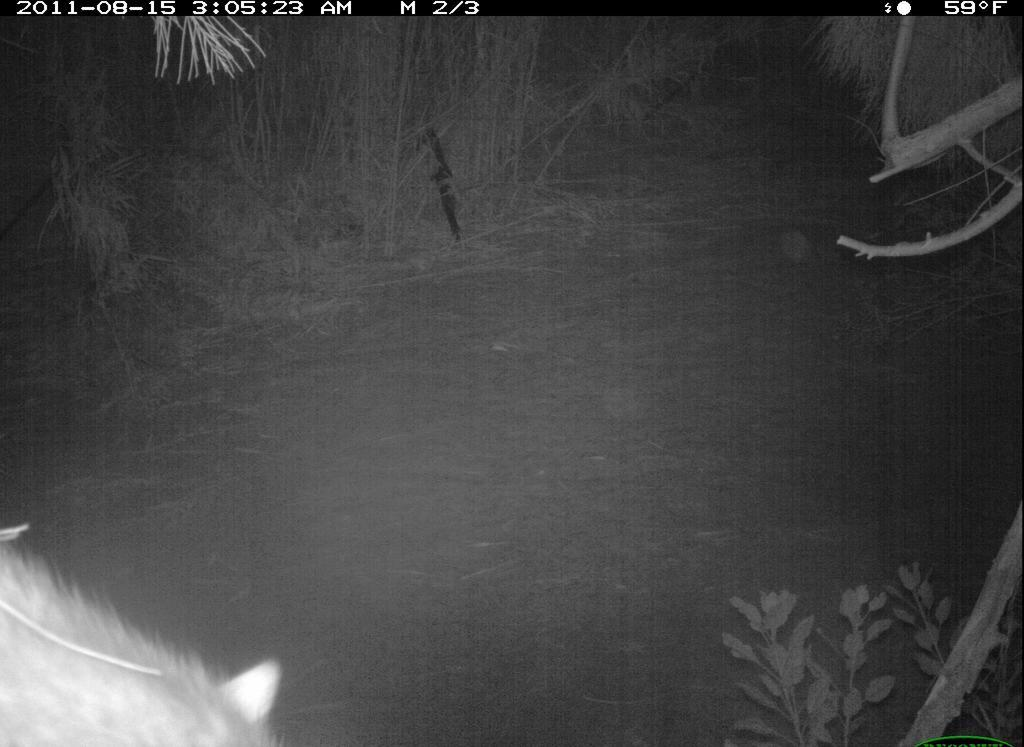raccoon: (6, 514, 292, 745)
